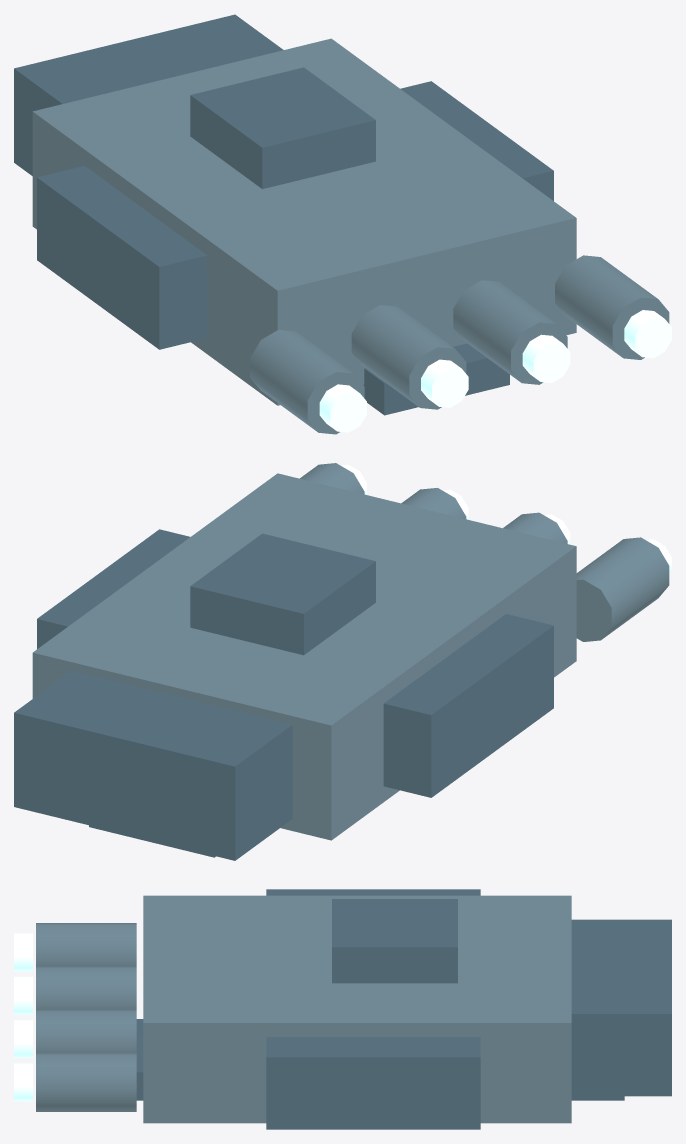
File: supply_ship.glb
3 views of the same model, one above another, from view 1: azimuth 30°, elevation 25°; view 2: azimuth 150°, elevation 25°; view 3: azimuth 270°, elevation 25° (orthographic). The views are drawn at different scales.
Visible parts, largest first — view 1: MainHull, CargoPod, Bridge, ForeHull, Engine1, Engine2, Engine0, Engine3, _MeshInstance3D_2, Keel, EngineGlow2, EngineGlow1 (+2 smaller); view 2: MainHull, ForeHull, CargoPod, Bridge, Engine0, _MeshInstance3D_2, Engine3, Engine2, Engine1; view 3: MainHull, _MeshInstance3D_2, ForeHull, Bridge, Engine3, Engine0, Engine1, Engine2, CargoPod, Keel, EngineGlow0, EngineGlow1 (+2 smaller).
Part boxes in pixels (<box>): MainHull: <box>32,38,576,405</box>; CargoPod: <box>37,165,207,349</box>; Bridge: <box>190,67,375,188</box>; ForeHull: <box>14,14,283,175</box>; Engine1: <box>351,305,466,409</box>; Engine2: <box>453,280,567,384</box>; Engine0: <box>250,329,364,434</box>; Engine3: <box>555,255,669,359</box>; _MeshInstance3D_2: <box>400,81,553,200</box>; Keel: <box>363,343,509,415</box>; EngineGlow2: <box>522,334,570,382</box>; EngineGlow1: <box>421,359,468,407</box>; MainHull: <box>32,473,576,840</box>; ForeHull: <box>14,670,292,860</box>; CargoPod: <box>383,614,553,797</box>; Bridge: <box>190,533,375,655</box>; Engine0: <box>576,537,669,641</box>; _MeshInstance3D_2: <box>37,529,189,648</box>; Engine3: <box>300,463,364,494</box>; Engine2: <box>401,488,466,518</box>; Engine1: <box>503,512,567,543</box>; MainHull: <box>143,895,571,1123</box>; _MeshInstance3D_2: <box>266,1037,480,1129</box>; ForeHull: <box>571,919,671,1096</box>; Bridge: <box>332,899,457,983</box>; Engine3: <box>36,1053,136,1111</box>; Engine0: <box>36,923,136,966</box>; Engine1: <box>36,966,136,1009</box>; Engine2: <box>36,1009,136,1052</box>; CargoPod: <box>266,889,480,895</box>; Keel: <box>136,1019,624,1100</box>; EngineGlow0: <box>14,933,32,971</box>; EngineGlow1: <box>14,976,32,1014</box>.
Bounding box in the file's own units: 4.49 × 1.88 × 7.42.
